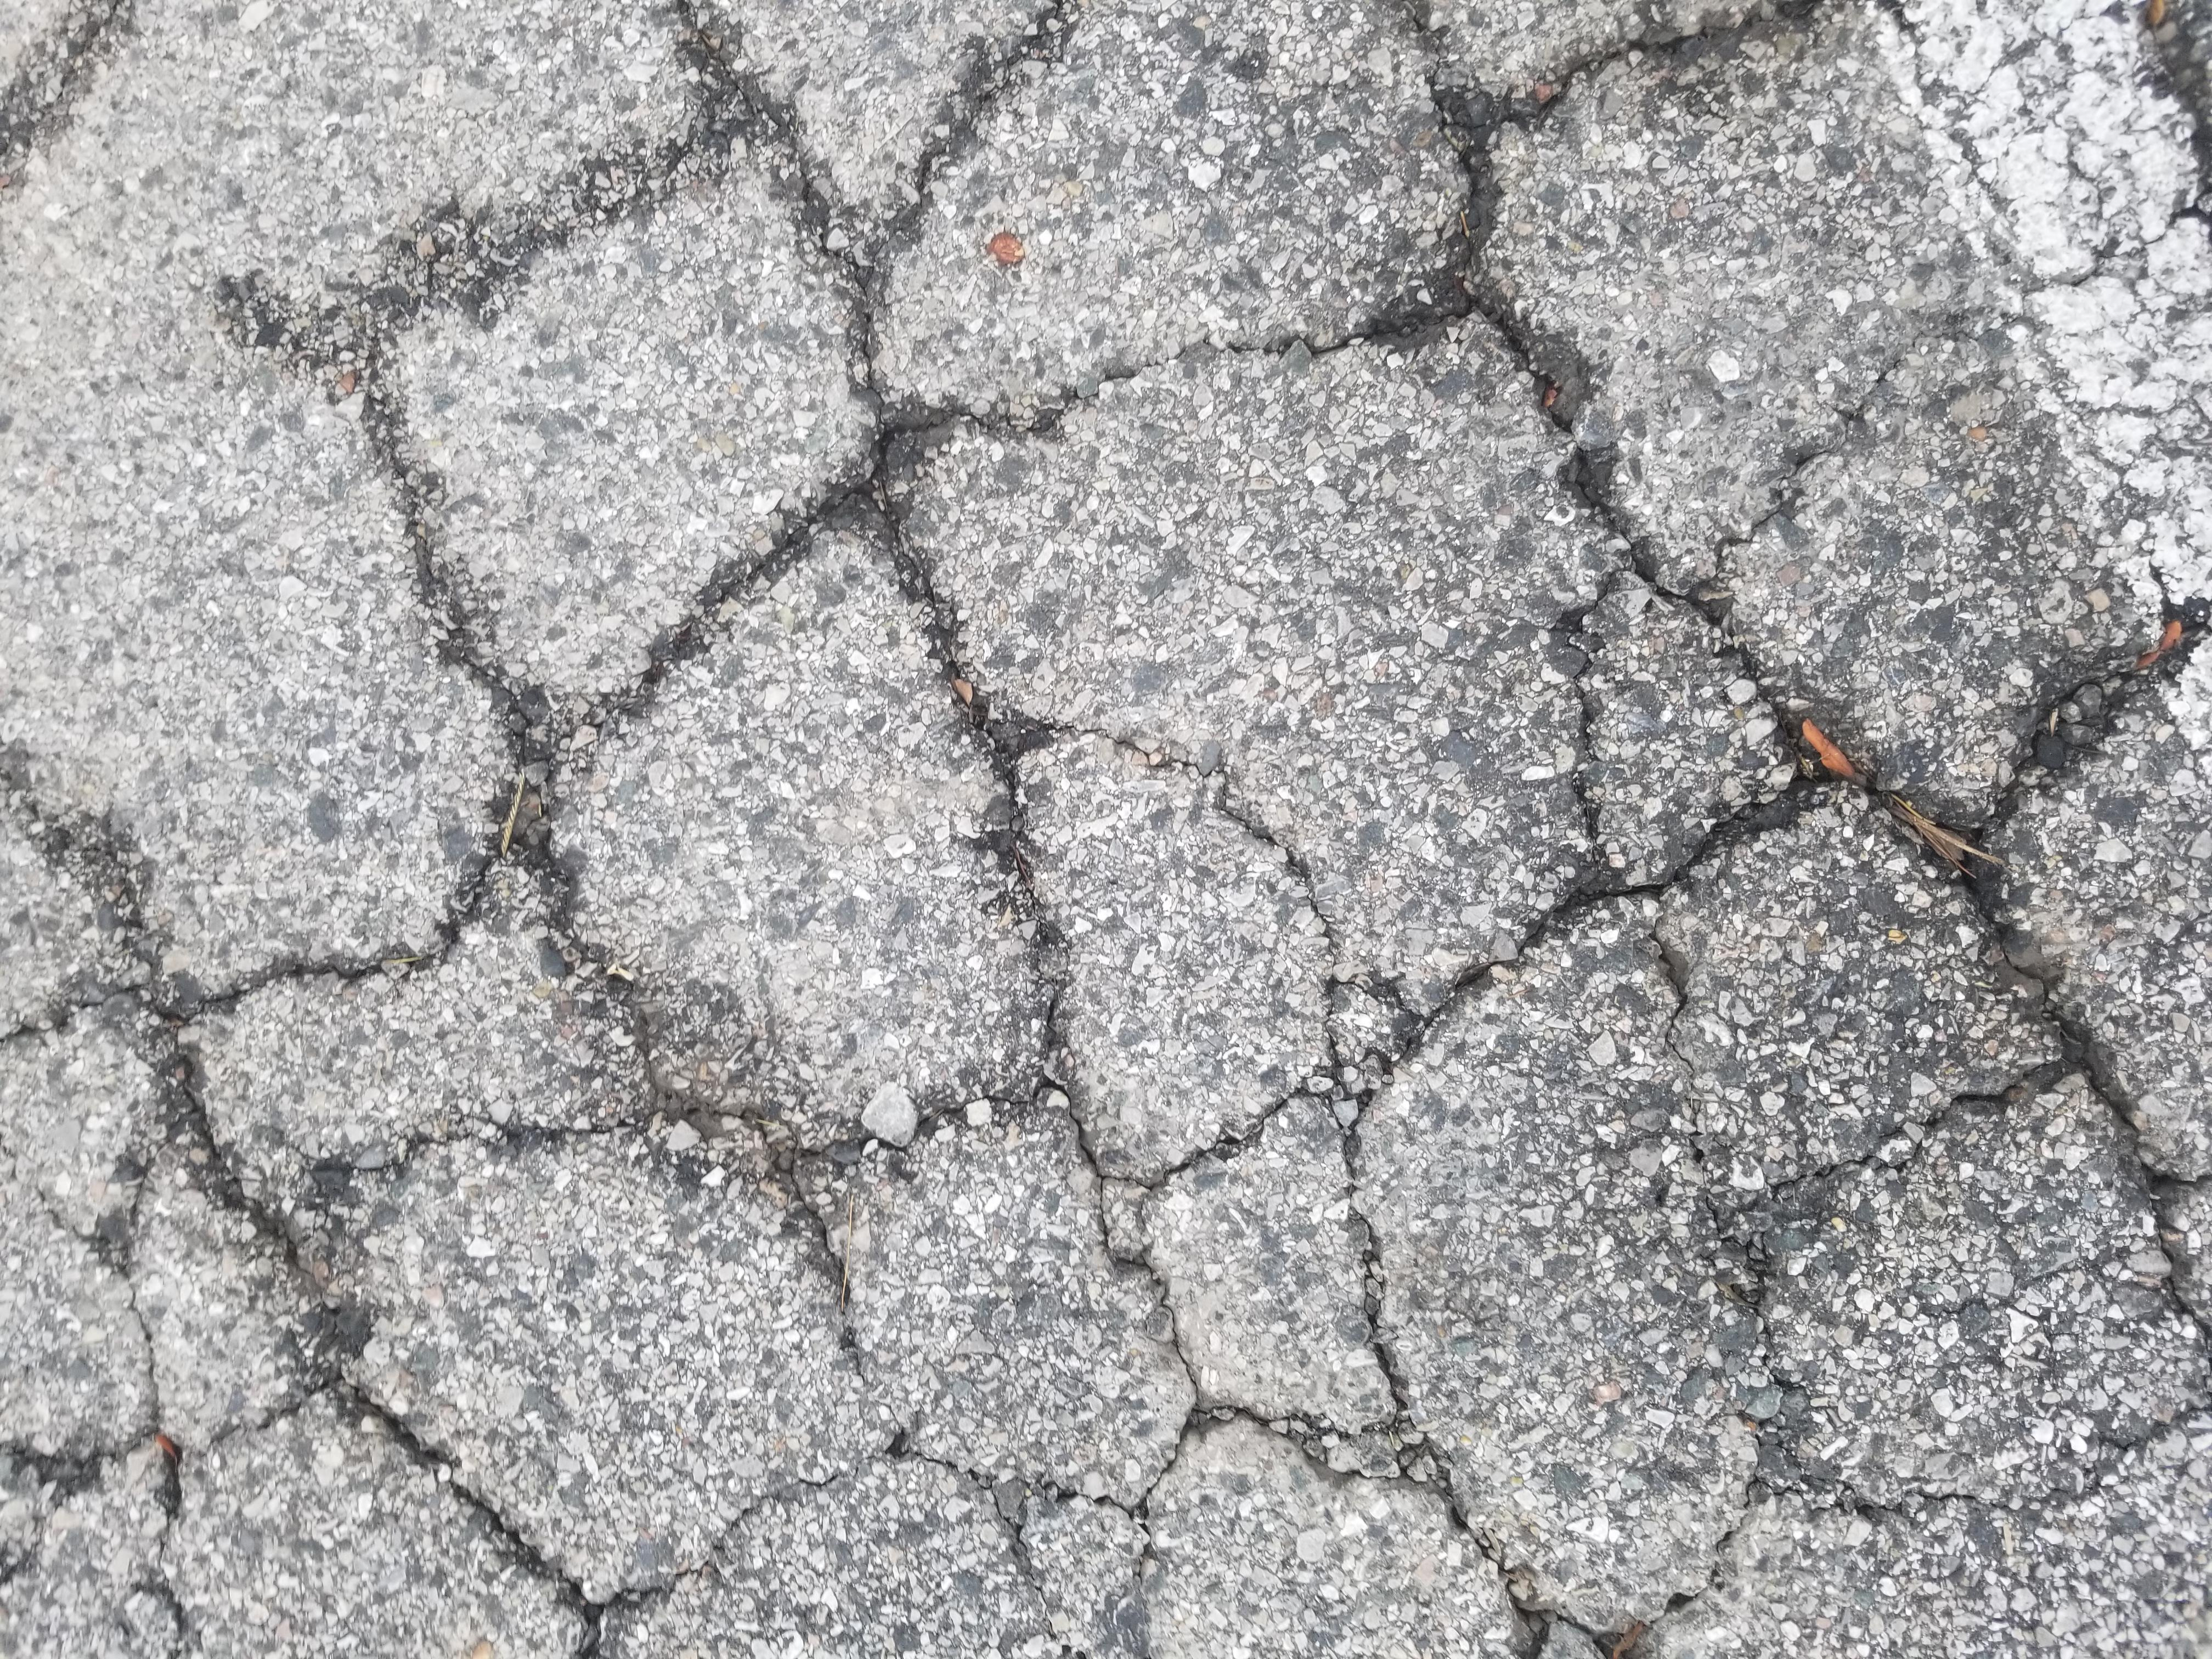alligator-crack: (51, 17, 2212, 1657)
